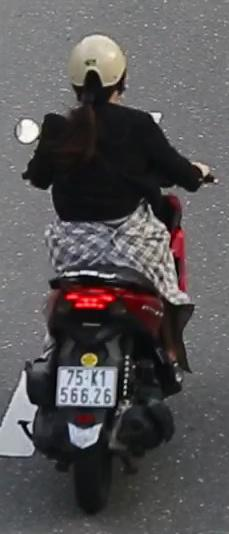LP: (55, 361, 120, 409)
helmet: (62, 31, 134, 118)
